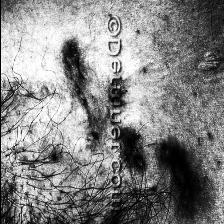Non-Cancerous Skin Condition: (161, 140, 193, 206), (120, 129, 142, 173), (63, 38, 79, 78)
